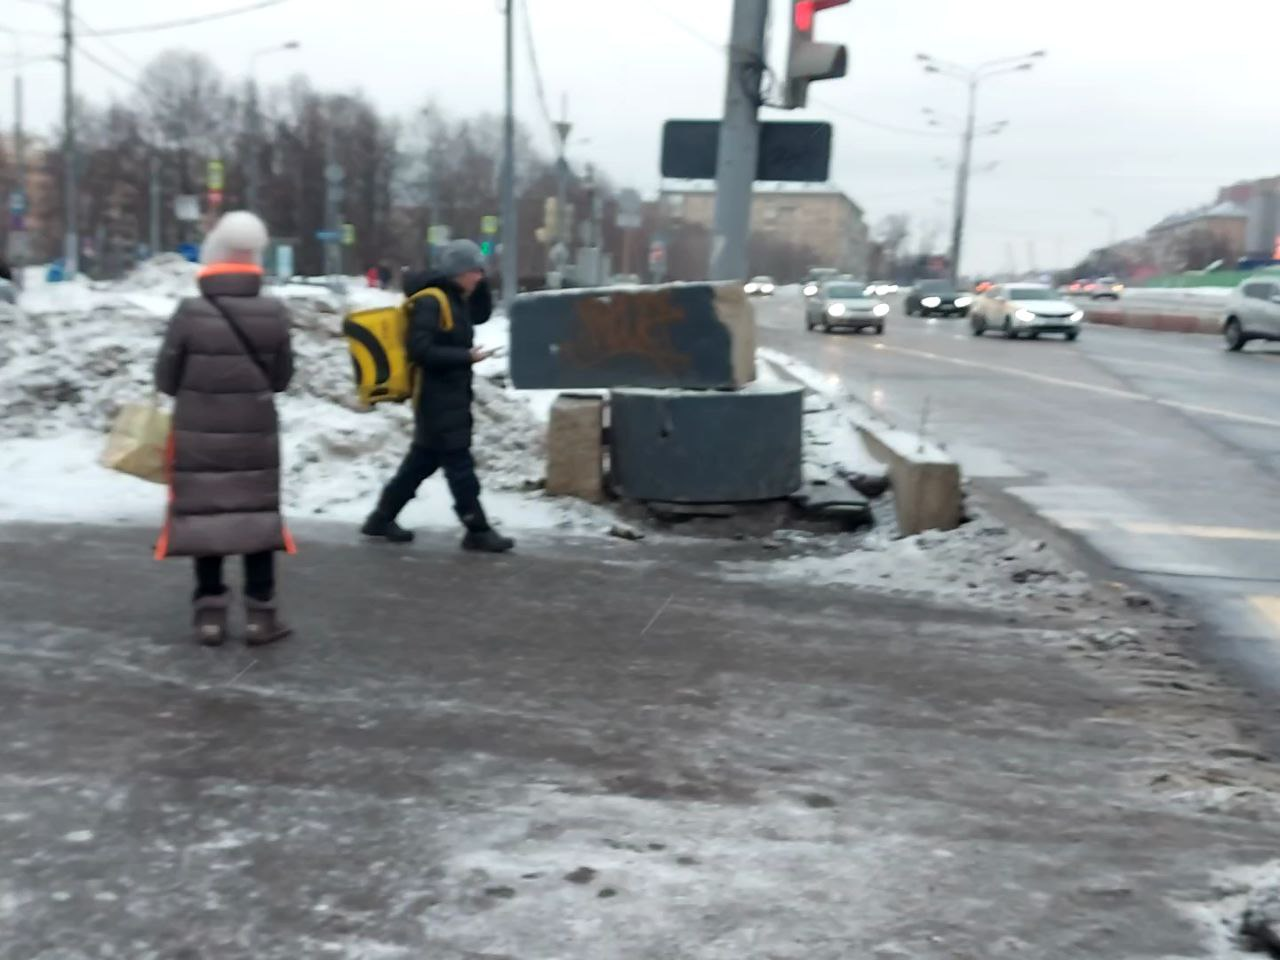sombie: (336, 229, 540, 566)
